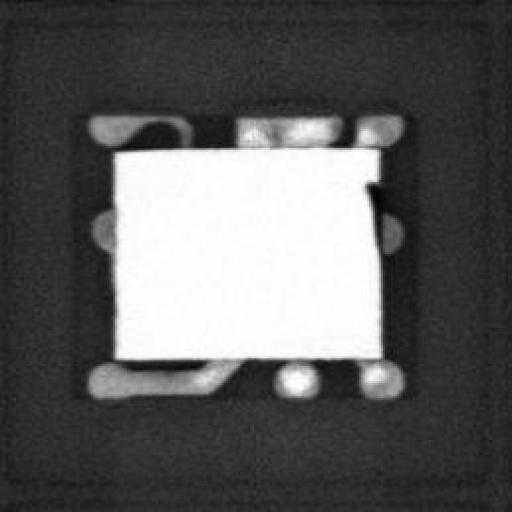DIE_BROKEN: (359, 173, 381, 252)
